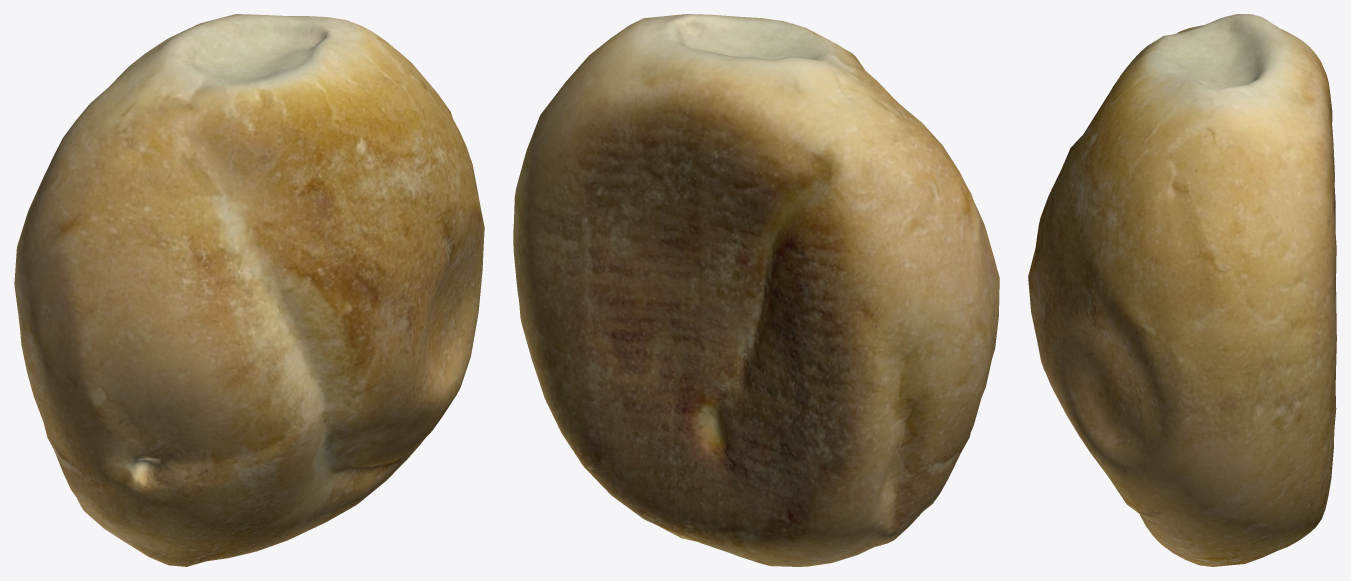
File: burger_bun01.glb
The picture shows the model from 3 angles, left to right: view 1: azimuth 30°, elevation 25°; view 2: azimuth 150°, elevation 25°; view 3: azimuth 270°, elevation 25°; orthographic projection. The views are drawn at different scales.
Parts seen in each view (by area): view 1: hamburger_buns_01; view 2: hamburger_buns_01; view 3: hamburger_buns_01.
Part boxes in pixels (<box>): hamburger_buns_01: <box>14,14,484,566</box>; hamburger_buns_01: <box>513,14,999,566</box>; hamburger_buns_01: <box>1028,14,1336,566</box>.
Size of the model in its own units: 0.1042 by 0.1138 by 0.0633.
1 material, 1 textured.
